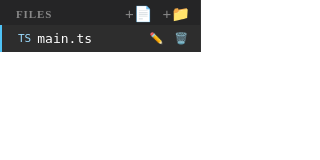
Test: Sidebar component › shows NewFileInput after clicking the new-file button
Click the button with test id "new-file-button" at (139, 14), box [123,6,154,21]
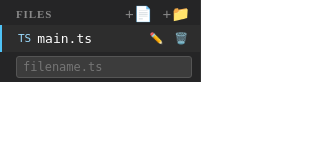
expect the field with test id "new-file-input" is shown: met, box [16,56,192,78]
